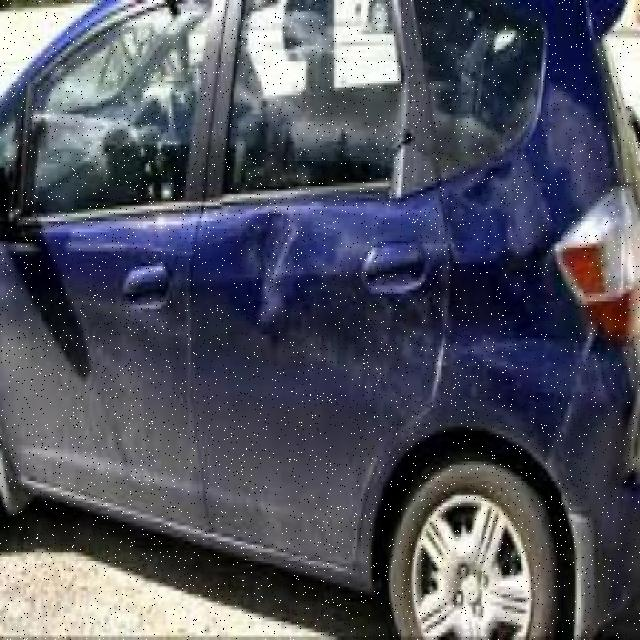damage: (233, 210, 300, 336), (425, 173, 504, 273)
